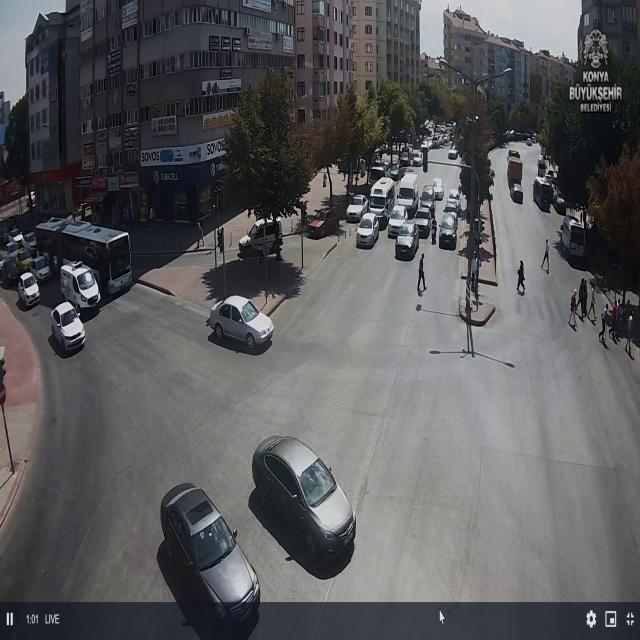Bus: (27, 213, 143, 296)
Car: (249, 442, 368, 564), (160, 484, 258, 630), (207, 293, 274, 348), (60, 261, 101, 312), (238, 215, 283, 260), (50, 303, 86, 351), (561, 215, 587, 258), (306, 207, 340, 238), (394, 223, 420, 258), (356, 212, 380, 247), (16, 272, 40, 307), (438, 213, 459, 248), (387, 206, 409, 239), (346, 194, 369, 223), (534, 177, 554, 210), (29, 255, 52, 283), (413, 209, 433, 239), (550, 187, 567, 214), (444, 188, 460, 214), (419, 184, 435, 208), (511, 183, 524, 203), (387, 164, 403, 180), (370, 164, 386, 180), (432, 178, 444, 199), (411, 152, 423, 166), (400, 152, 410, 166), (431, 138, 442, 148), (448, 149, 458, 159), (508, 150, 520, 158), (526, 139, 532, 146)
